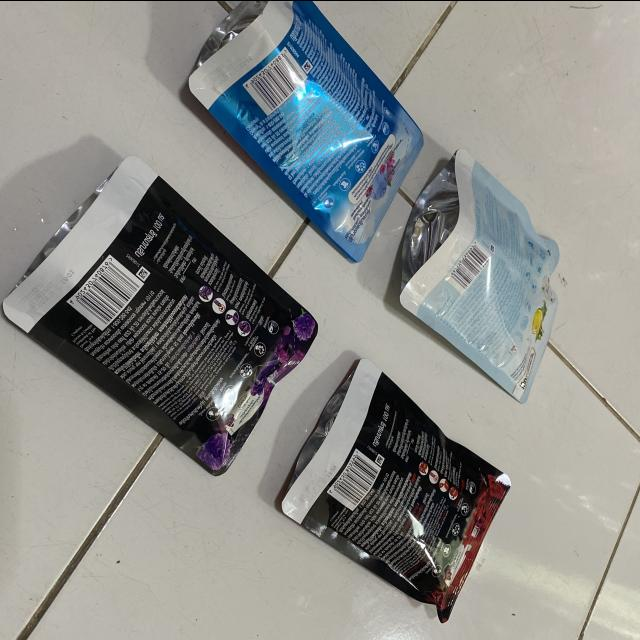plastik: (3, 156, 317, 474), (188, 0, 423, 260), (281, 358, 511, 621), (399, 149, 559, 402)
